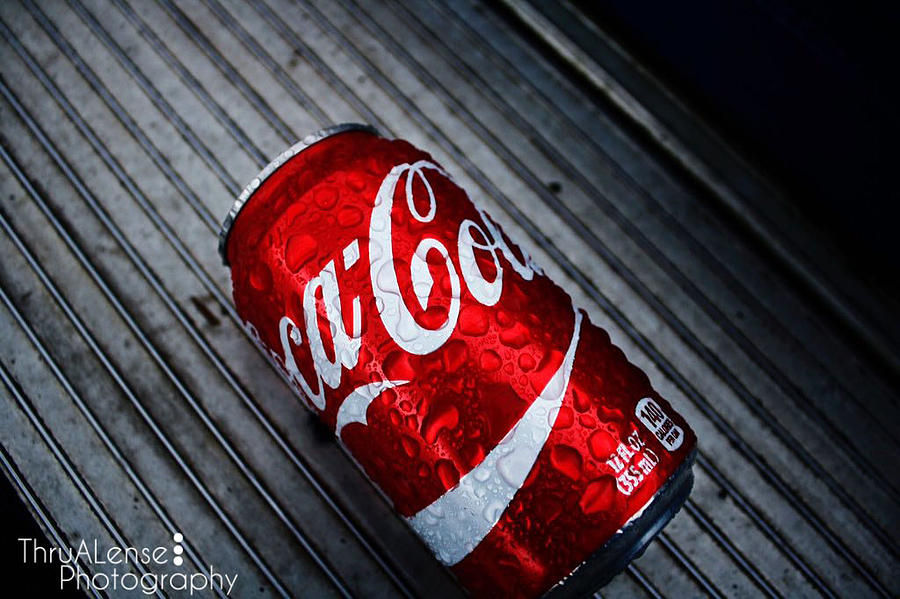coke: (204, 113, 707, 592)
